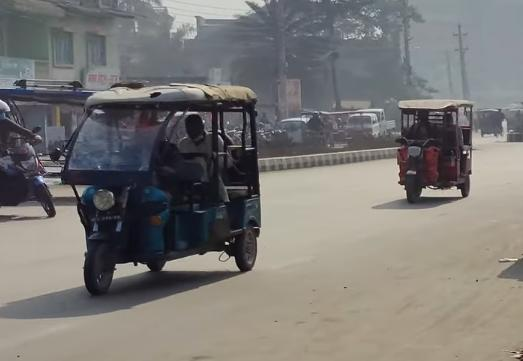bike: (0, 127, 60, 223)
e-rickshaw: (47, 74, 274, 304), (393, 93, 484, 214)
